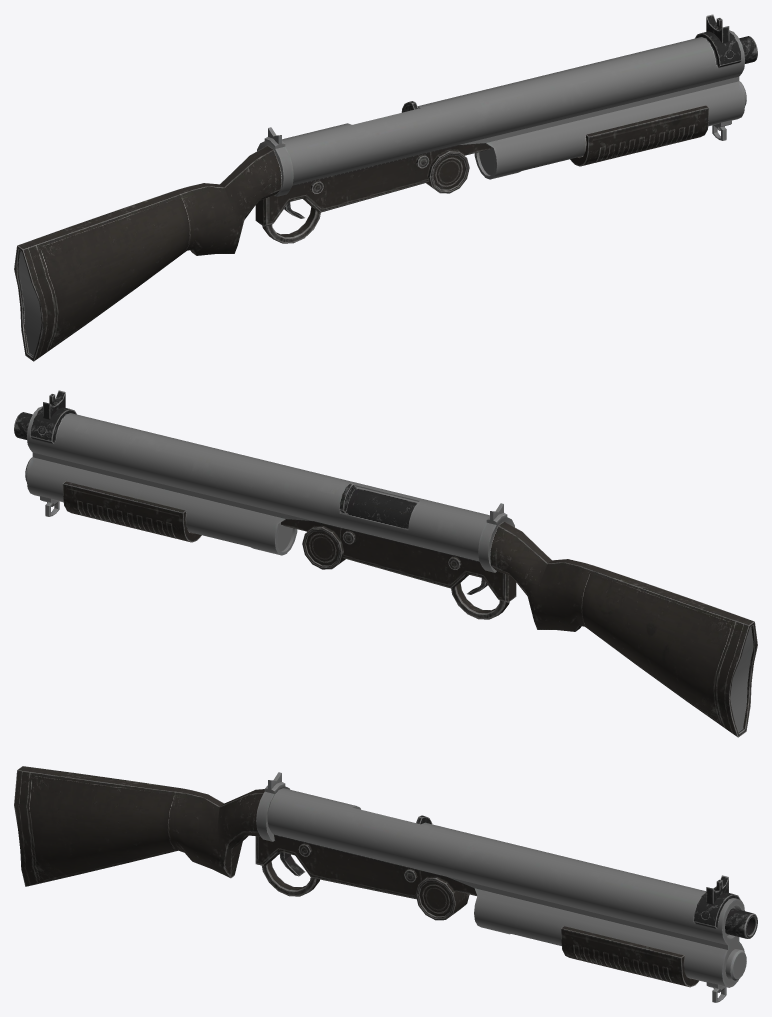
File: shotgun_high.glb
3 renders of one model, top to bottom at view 1: azimuth 30°, elevation 25°; view 2: azimuth 150°, elevation 25°; view 3: azimuth 330°, elevation 25°, orthographic.
Parts seen in each view (by area): view 1: body, pump; view 2: body, pump; view 3: body, pump.
Part boxes in pixels (box(x1,y1,x2,y2)): body: box(14, 14, 757, 361); pump: box(460, 76, 744, 179); body: box(14, 390, 757, 737); pump: box(27, 452, 311, 555); body: box(14, 766, 757, 1002); pump: box(448, 877, 728, 987).
Size of the model in its own units: 1 by 0.2237 by 0.066.
Materials: 1 (1 with a texture image).
